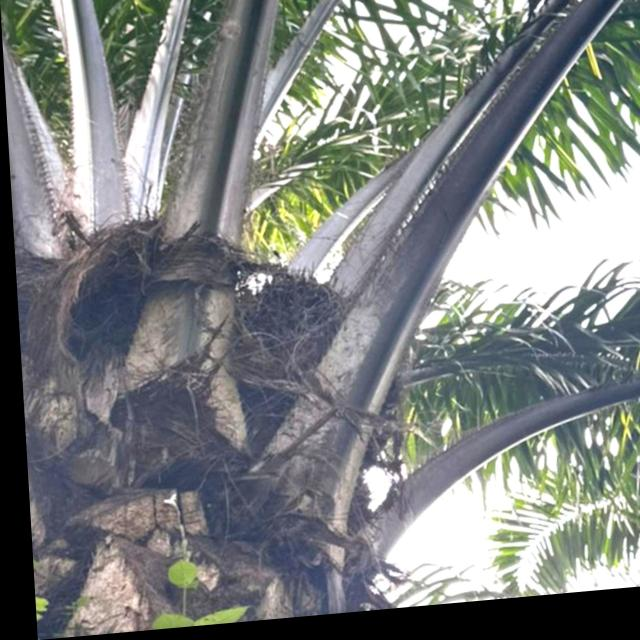almost: (229, 245, 414, 499)
